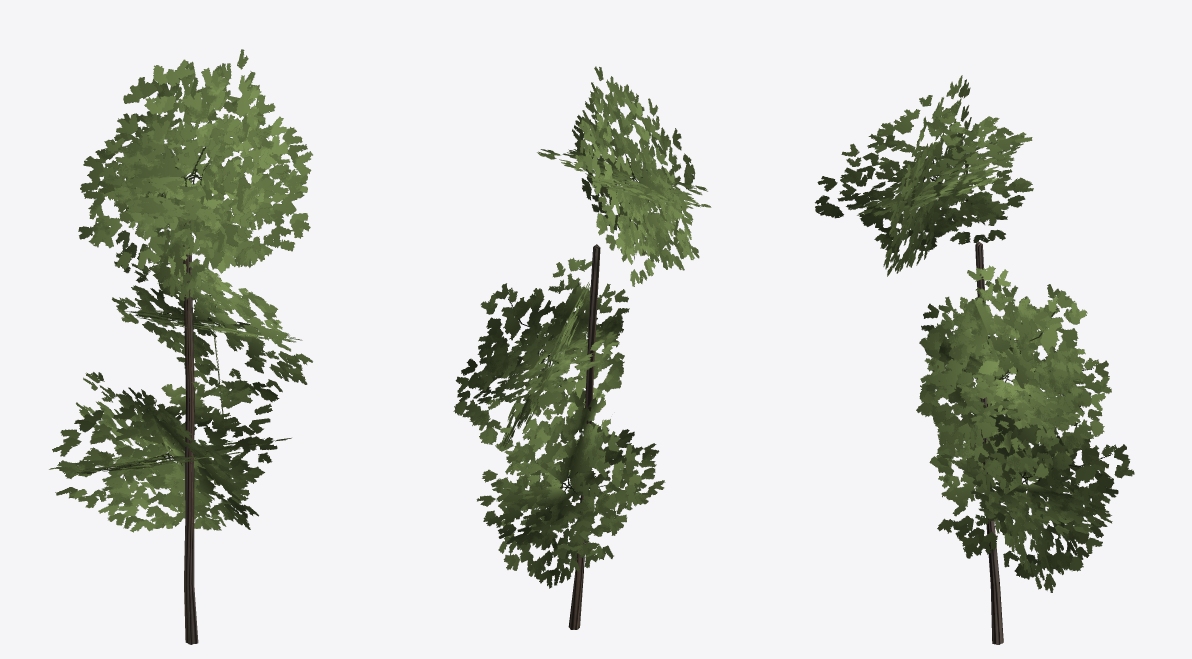
Rendered from seedling-b.lod0.glb.
The picture shows the model from 3 angles, left to right: view 1: azimuth 30°, elevation 25°; view 2: azimuth 150°, elevation 25°; view 3: azimuth 270°, elevation 25°; orthographic projection. The views are drawn at different scales.
Visible parts, largest first — view 1: foliage, bark; view 2: foliage, bark; view 3: foliage, bark.
Boxes of the visible parts, x1,y1,x2,y2 form: foliage: [49, 49, 312, 532]; bark: [183, 221, 198, 644]; foliage: [453, 66, 711, 588]; bark: [568, 244, 600, 629]; foliage: [815, 75, 1134, 592]; bark: [975, 242, 1003, 644].
Size of the model in its own units: 0.1842 by 0.35 by 0.2144.
Materials: 2 (2 with a texture image).
